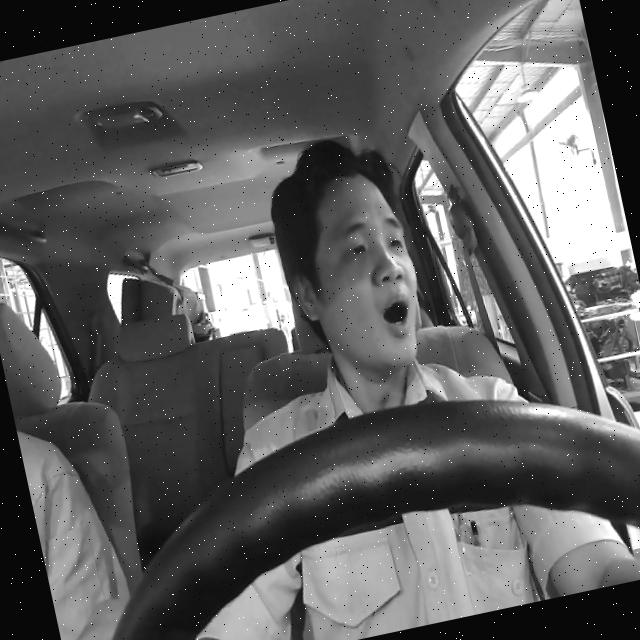yarning: (270, 162, 434, 388)
